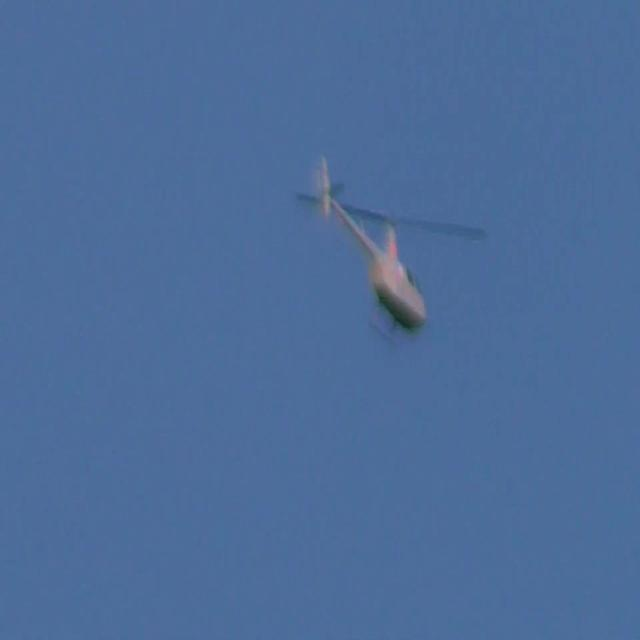CIV_HELO: (312, 155, 429, 345)
